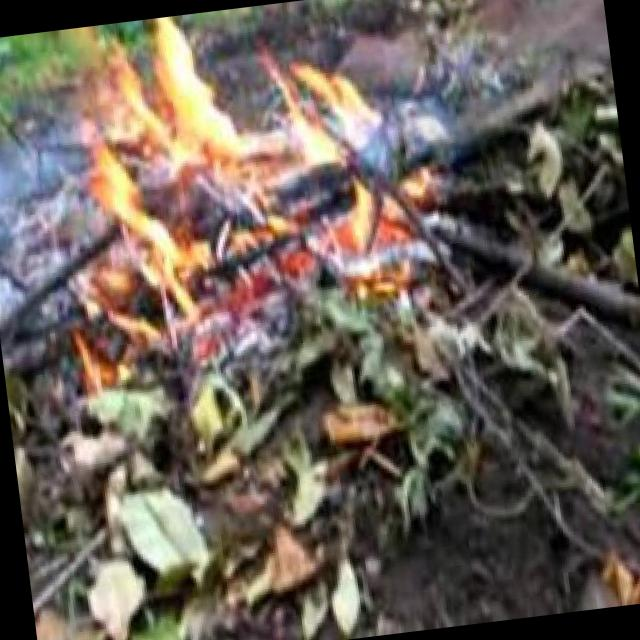Fire: (42, 0, 455, 356)
